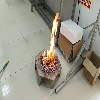fire: (43, 11, 60, 67)
